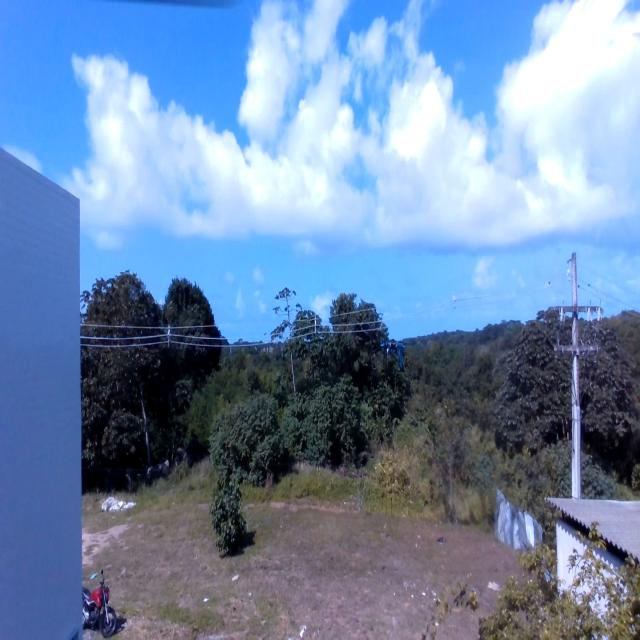-uav-: (377, 332, 412, 378)
